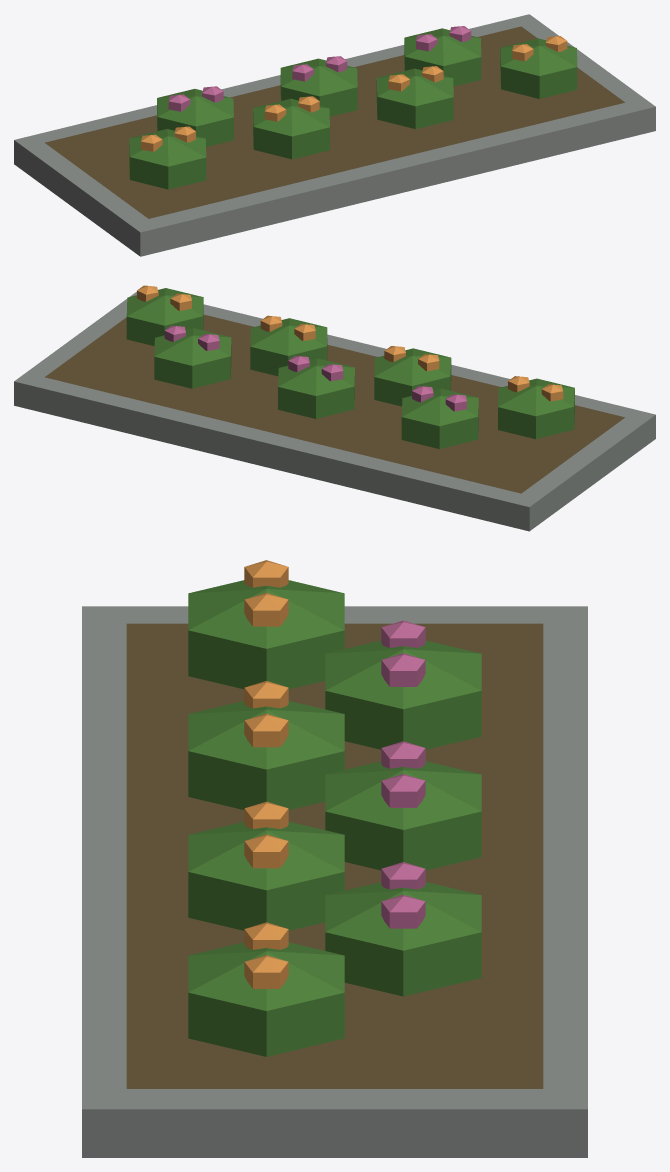
File: FlowerBorder.obj
3 views of the same model, one above another, from view 1: azimuth 30°, elevation 25°; view 2: azimuth 150°, elevation 25°; view 3: azimuth 270°, elevation 25° (orthographic). The views are drawn at different scales.
Parts seen in each view (by area): view 1: FlowerBorder; view 2: FlowerBorder; view 3: FlowerBorder.
Part boxes in pixels (bbox=[...]): FlowerBorder: bbox=[14, 14, 655, 256]; FlowerBorder: bbox=[14, 285, 655, 531]; FlowerBorder: bbox=[82, 560, 587, 1157].
Bounding box in the file's own units: 4 × 0.55 × 1.7.
1 material, 1 textured.
